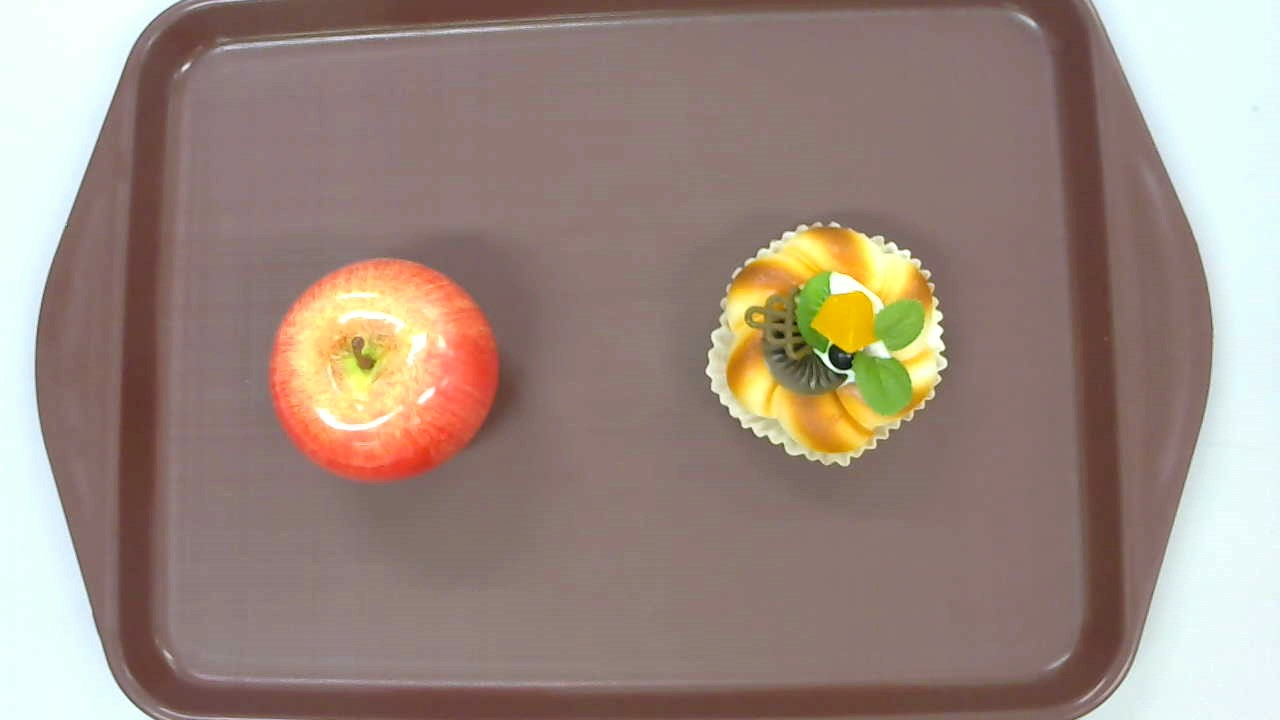fruit tart: (703, 221, 949, 468)
red apple: (268, 256, 498, 484)
